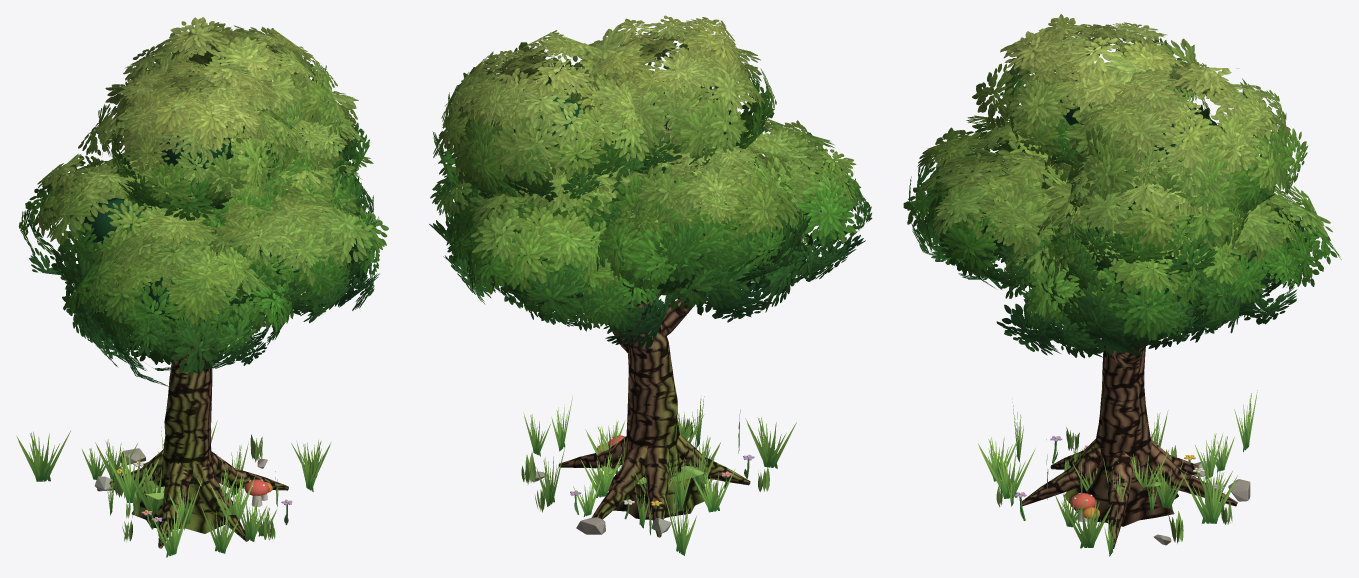
Rendered from tree.gltf.
The picture shows the model from 3 angles, left to right: view 1: azimuth 30°, elevation 25°; view 2: azimuth 150°, elevation 25°; view 3: azimuth 270°, elevation 25°; orthographic projection. The views are drawn at different scales.
Parts seen in each view (by area): view 1: Canopy_summer, Trunk, Undergrowth, Base; view 2: Canopy_summer, Trunk, Undergrowth, Base; view 3: Canopy_summer, Trunk, Undergrowth, Base.
Boxes of the visible parts, left/top/right/bottom form: Canopy_summer: left=18, top=17, right=388, bottom=386; Trunk: left=97, top=338, right=288, bottom=548; Undergrowth: left=16, top=420, right=331, bottom=557; Base: left=94, top=434, right=292, bottom=542; Canopy_summer: left=429, top=15, right=872, bottom=350; Trunk: left=559, top=126, right=750, bottom=537; Undergrowth: left=523, top=396, right=796, bottom=555; Base: left=521, top=418, right=769, bottom=534; Canopy_summer: left=903, top=14, right=1341, bottom=358; Trunk: left=1022, top=342, right=1237, bottom=548; Undergrowth: left=978, top=390, right=1257, bottom=556; Base: left=996, top=427, right=1250, bottom=545.
Bounding box in the file's own units: 4.88 × 5.85 × 4.95.
20 materials, 2 textured.
